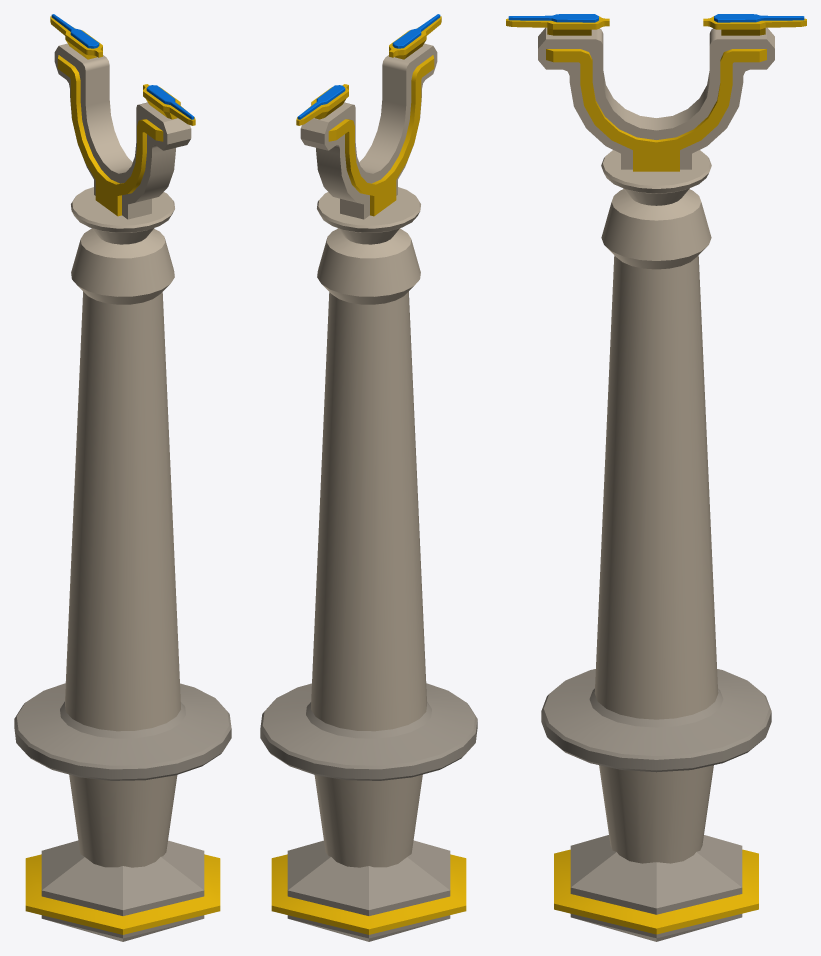
Rendered from mesh_column_04.fbx.
3 views of the same model, side by side, from view 1: azimuth 30°, elevation 25°; view 2: azimuth 150°, elevation 25°; view 3: azimuth 270°, elevation 25° (orthographic). The views are drawn at different scales.
Parts seen in each view (by area): view 1: mesh_column_04; view 2: mesh_column_04; view 3: mesh_column_04.
Boxes of the visible parts, x1,y1,x2,y2 form: mesh_column_04: (14,14,231,941); mesh_column_04: (260,14,477,941); mesh_column_04: (506,14,806,941).
Bounding box in the file's own units: 0.0508 × 0.2189 × 0.0645.
